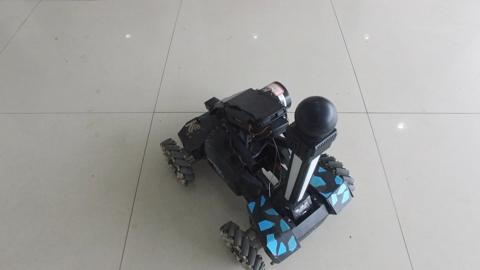chariot: (137, 65, 368, 265)
